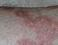plaque psoriasis: (13, 10, 58, 45), (14, 38, 38, 45)
